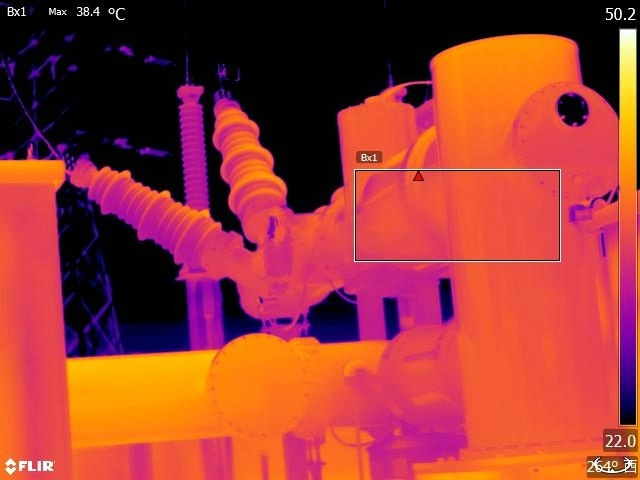tube: (65, 137, 238, 277), (209, 80, 297, 231), (179, 73, 211, 223)
